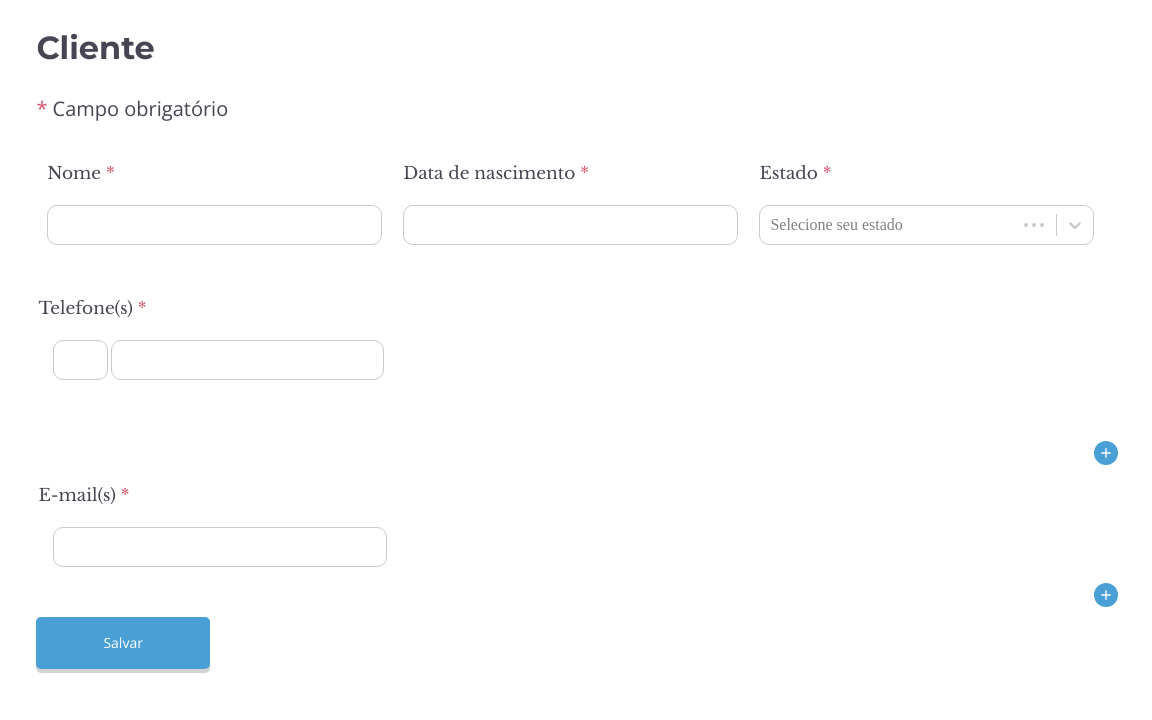
Testing form › Testing emails area › don't show add button with three fields
Click the button with id "add_email" at (1106, 595), box [1094,583,1118,607]
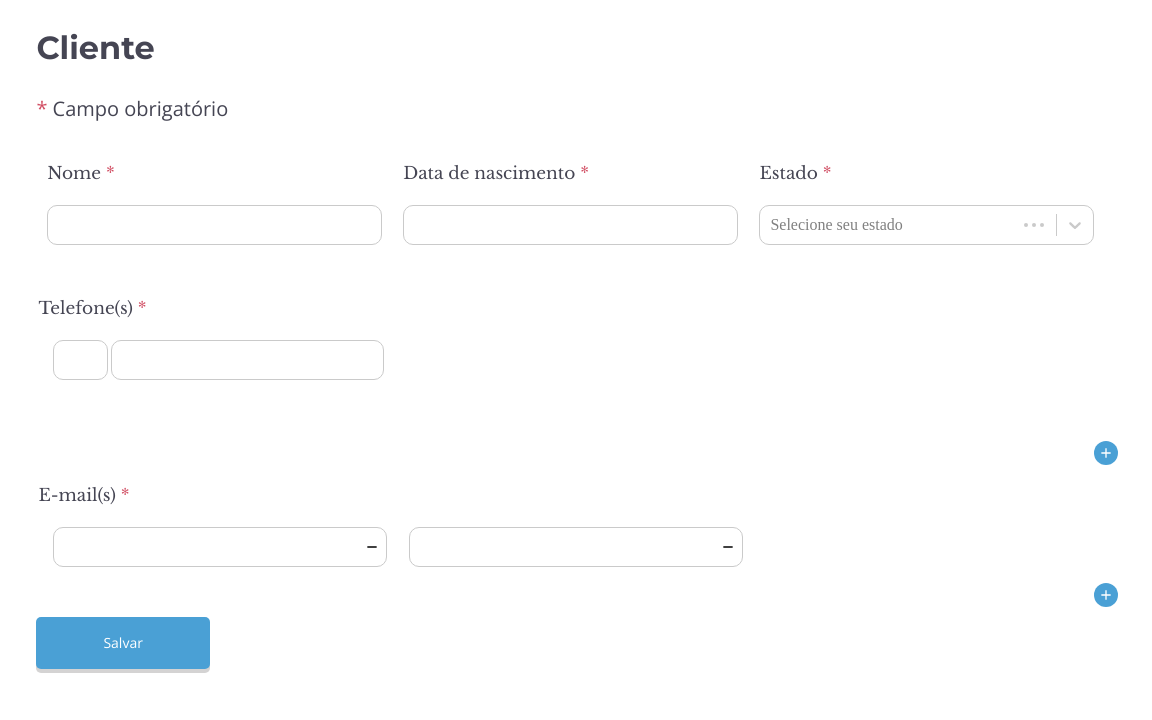
Click the button with id "add_email" at (1106, 595), box [1094,583,1118,607]
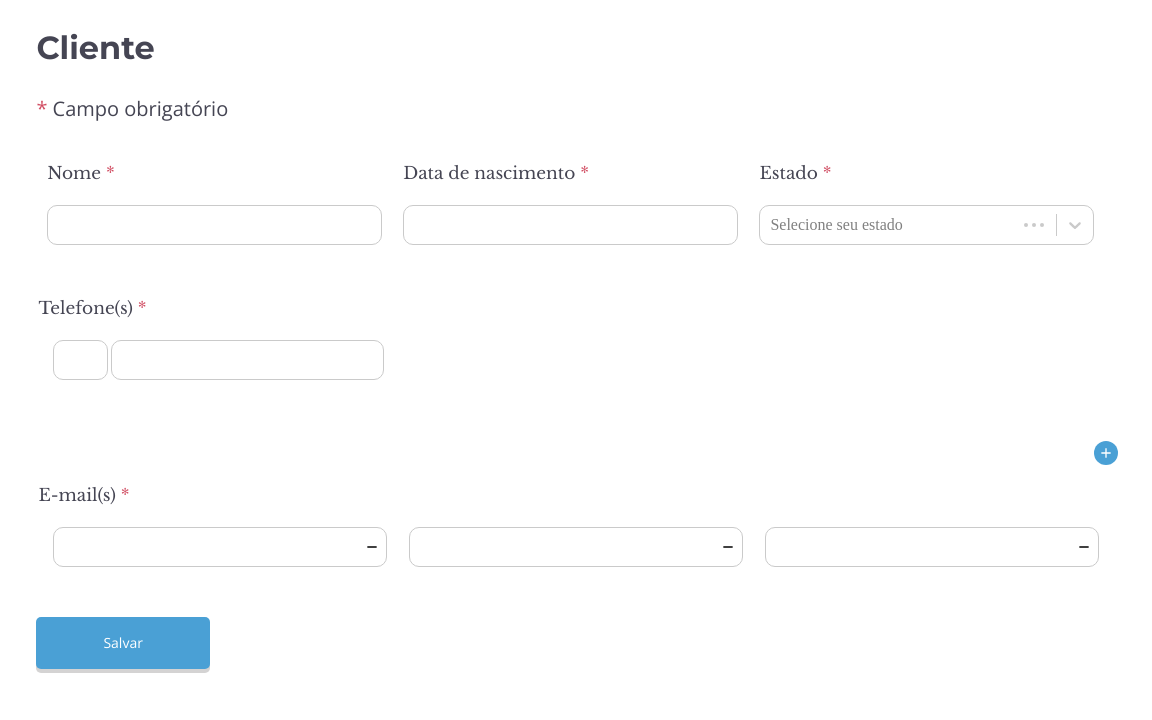
Check: no buttons with id "add_email" are shown
